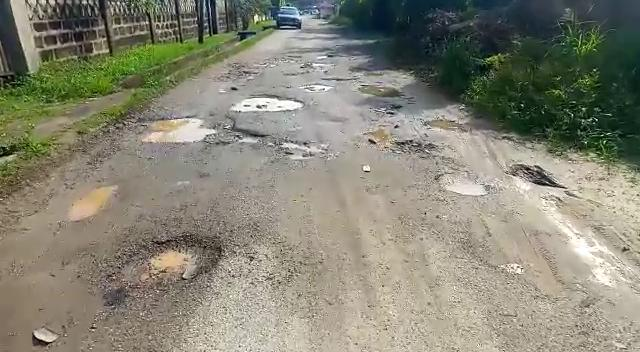pothole: (113, 234, 224, 295), (232, 128, 331, 159), (141, 114, 221, 145), (229, 93, 308, 112), (437, 170, 494, 196), (301, 82, 334, 91)
